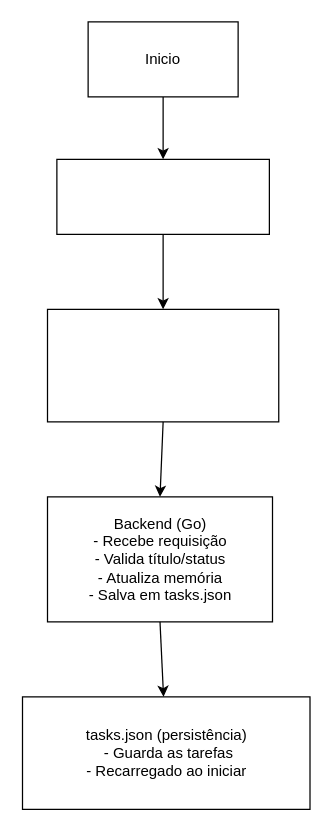
This 331x831 diagram has some shape labels left out. Each missing label, with the box of its shape:
Frontend - React (faz requisição HTTP REST): (46, 308, 279, 422)
Usuário (cria/edita tarefa): (56, 158, 269, 234)
